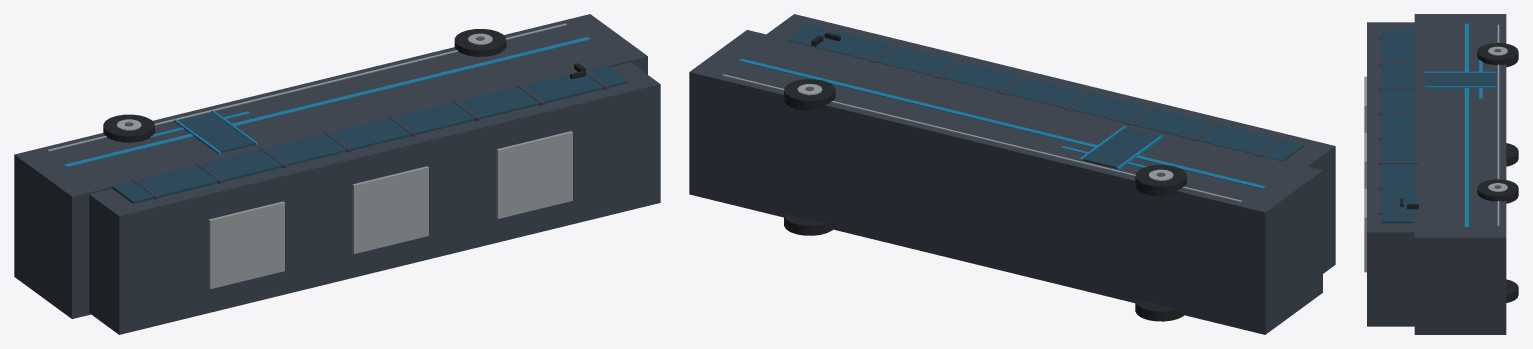
The model's file is RM_Bus_04.glb.
3 views of the same model, side by side, from view 1: azimuth 30°, elevation 25°; view 2: azimuth 150°, elevation 25°; view 3: azimuth 270°, elevation 25° (orthographic). The views are drawn at different scales.
Parts seen in each view (by area): view 1: part_001, part_000, part_002, part_038, part_037, part_039, part_013, part_040, part_014, part_024, part_030; view 2: part_000, part_002, part_001, part_013, part_040, part_030, part_024, part_014, part_021, part_027; view 3: part_000, part_001, part_002, part_040, part_013, part_030, part_024, part_014, part_021, part_039, part_027, part_042 (+5 smaller).
Boxes of the visible parts, x1,y1,x2,y2 form: part_001: (89, 62, 660, 334); part_000: (14, 14, 647, 318); part_002: (111, 65, 628, 203); part_038: (352, 166, 428, 253); part_037: (208, 201, 284, 289); part_039: (496, 131, 572, 218); part_013: (64, 37, 590, 167); part_040: (177, 112, 254, 152); part_014: (47, 23, 566, 151); part_024: (103, 114, 154, 142); part_030: (454, 29, 506, 56); part_000: (689, 30, 1322, 334); part_002: (786, 24, 1303, 160); part_001: (766, 14, 1335, 273); part_013: (739, 58, 1265, 188); part_040: (1082, 127, 1159, 168); part_030: (784, 79, 835, 110); part_024: (1135, 165, 1186, 196); part_014: (722, 74, 1241, 202); part_021: (1135, 299, 1183, 321); part_027: (784, 214, 832, 235); part_000: (1414, 14, 1506, 334); part_001: (1367, 22, 1414, 326); part_002: (1381, 29, 1415, 223); part_040: (1426, 73, 1494, 86); part_013: (1464, 23, 1468, 227); part_030: (1477, 179, 1518, 203); part_024: (1477, 42, 1518, 67); part_014: (1497, 24, 1499, 226); part_021: (1506, 143, 1518, 166); part_039: (1364, 188, 1366, 272); part_027: (1506, 279, 1518, 302); part_042: (1425, 86, 1495, 88).
Bounding box in the file's own units: 12.06 × 2.77 × 3.51.
